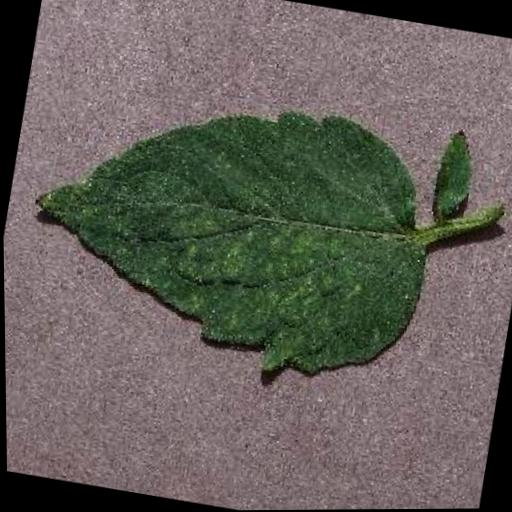Spider Mites: (9, 68, 446, 405)
